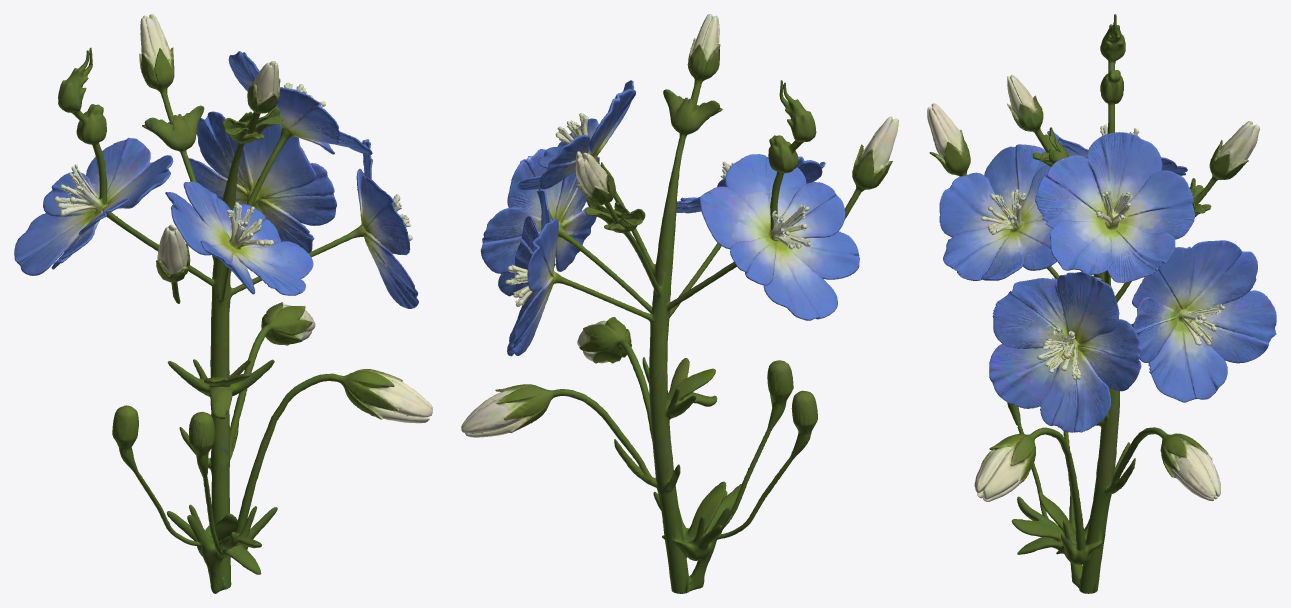
File: YinLianHua.glb
The picture shows the model from 3 angles, left to right: view 1: azimuth 30°, elevation 25°; view 2: azimuth 150°, elevation 25°; view 3: azimuth 270°, elevation 25°; orthographic projection. The views are drawn at different scales.
Parts seen in each view (by area): view 1: tripo_node_f2acfd17-816c-43fb-95e9-d3edde0a1afe; view 2: tripo_node_f2acfd17-816c-43fb-95e9-d3edde0a1afe; view 3: tripo_node_f2acfd17-816c-43fb-95e9-d3edde0a1afe.
Part boxes in pixels (x1,y1,x2,y2): tripo_node_f2acfd17-816c-43fb-95e9-d3edde0a1afe: [14, 14, 432, 593]; tripo_node_f2acfd17-816c-43fb-95e9-d3edde0a1afe: [461, 14, 898, 593]; tripo_node_f2acfd17-816c-43fb-95e9-d3edde0a1afe: [927, 14, 1276, 593].
Size of the model in its own units: 0.651 by 0.9807 by 0.5944.
1 material, 1 textured.
